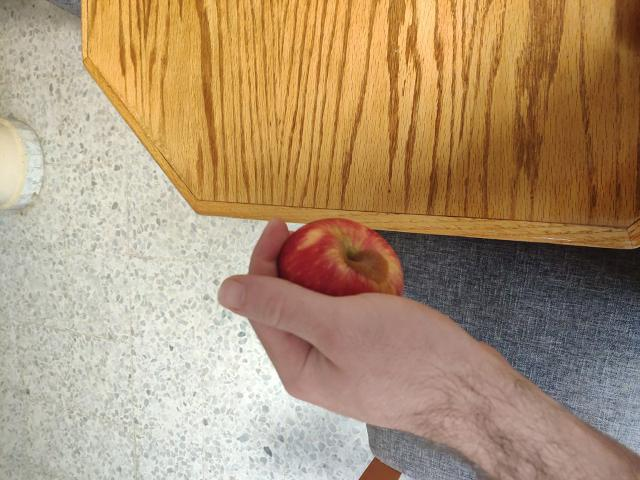apple: (264, 216, 430, 348)
